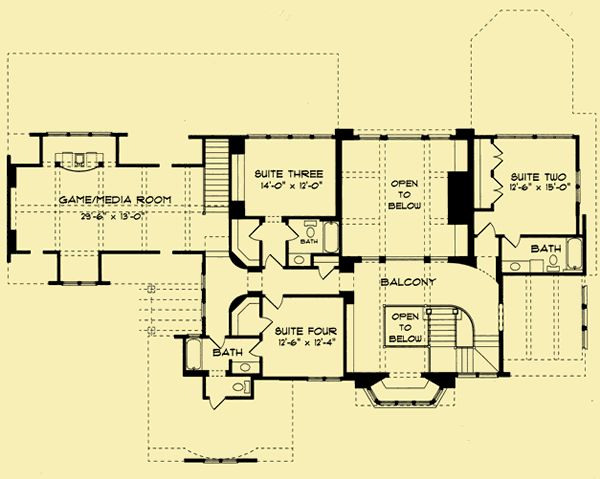door: (490, 140, 505, 172), (263, 252, 284, 269), (264, 294, 285, 311), (492, 175, 504, 204), (204, 335, 228, 349), (286, 222, 300, 243), (316, 264, 334, 280), (249, 223, 262, 243), (249, 339, 263, 357), (207, 396, 225, 410), (259, 316, 274, 332)
large_sink: (544, 254, 562, 274), (232, 379, 253, 395), (303, 219, 318, 238)
small_sink: (230, 360, 262, 374), (501, 259, 530, 273), (288, 253, 311, 268)
stairs: (425, 301, 501, 372), (202, 135, 231, 215)
tub: (566, 237, 585, 273), (323, 221, 341, 253), (186, 337, 203, 369)
windows: (356, 130, 454, 143), (242, 131, 335, 143), (494, 132, 578, 141), (43, 129, 118, 139), (199, 271, 207, 320), (573, 168, 583, 206), (456, 372, 500, 380), (58, 279, 96, 288), (307, 375, 342, 384)
